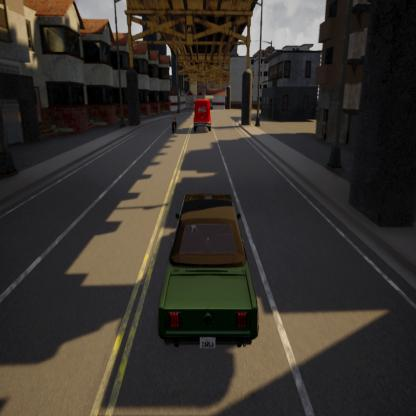Cars: (159, 183, 265, 358), (189, 95, 214, 133)
